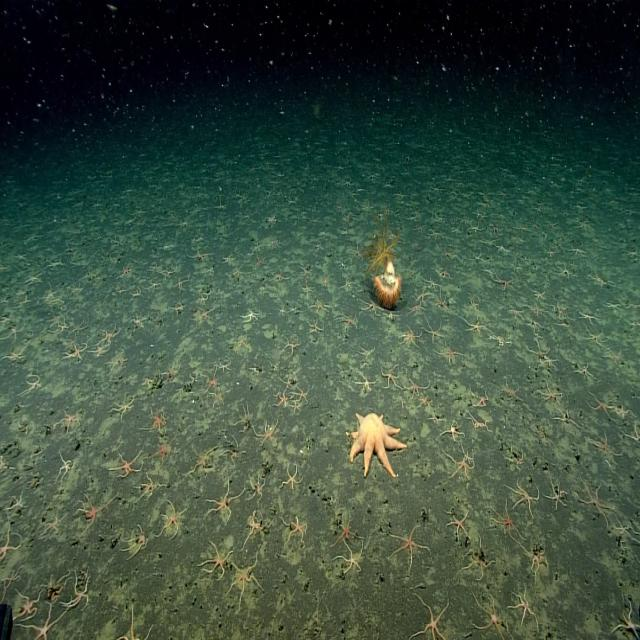brittle-stars: (411, 598, 449, 640), (390, 526, 427, 568), (474, 592, 507, 638), (578, 478, 612, 522), (26, 605, 63, 640), (207, 482, 240, 520), (230, 557, 260, 598), (105, 450, 144, 480), (512, 588, 540, 628), (41, 566, 69, 604), (493, 503, 519, 542), (511, 480, 539, 516), (202, 544, 230, 580), (465, 538, 491, 576), (615, 602, 640, 640), (161, 503, 186, 538), (77, 492, 102, 527), (116, 615, 151, 640), (338, 544, 366, 575), (15, 589, 42, 621), (69, 572, 90, 612), (0, 525, 22, 562), (444, 455, 473, 483), (154, 436, 180, 465), (528, 332, 552, 363), (127, 524, 148, 558), (194, 445, 217, 476), (448, 509, 470, 541), (335, 517, 359, 546), (282, 517, 306, 546), (547, 480, 568, 511), (592, 432, 616, 459), (137, 474, 161, 500), (245, 512, 265, 543), (257, 420, 279, 448), (527, 547, 547, 577), (42, 511, 64, 538), (589, 392, 611, 418), (358, 298, 384, 318), (112, 395, 134, 418), (540, 379, 562, 402), (572, 360, 596, 381), (282, 466, 302, 491), (612, 519, 634, 541), (354, 342, 376, 364), (2, 565, 23, 588), (381, 366, 401, 390), (439, 342, 460, 364), (60, 410, 81, 432), (406, 377, 428, 398), (226, 438, 242, 466), (58, 454, 75, 480), (248, 475, 265, 501), (490, 332, 513, 351), (147, 409, 165, 433), (444, 420, 464, 441), (65, 343, 87, 362), (402, 327, 421, 349), (463, 317, 484, 336), (102, 322, 121, 343), (471, 415, 492, 434), (4, 346, 26, 364), (356, 374, 375, 394), (470, 387, 488, 408), (238, 406, 253, 431), (7, 492, 24, 514), (164, 364, 181, 386), (508, 446, 524, 469), (424, 320, 442, 340), (340, 310, 358, 329), (6, 320, 24, 339), (110, 351, 126, 372), (282, 337, 299, 356), (502, 380, 518, 400), (26, 374, 42, 394), (212, 386, 228, 406), (495, 274, 513, 291), (587, 330, 605, 347), (557, 263, 574, 281), (578, 306, 595, 324), (234, 332, 250, 351), (415, 394, 432, 411), (92, 342, 110, 358), (242, 308, 260, 324), (42, 284, 58, 302), (437, 288, 449, 312), (0, 452, 11, 477), (272, 268, 289, 284), (308, 318, 324, 335), (72, 316, 87, 334), (607, 348, 622, 366), (275, 389, 289, 408), (198, 305, 213, 322), (604, 300, 621, 315), (26, 271, 43, 286), (28, 474, 42, 492), (510, 306, 526, 321), (295, 386, 309, 403), (312, 300, 329, 314), (206, 372, 219, 390), (426, 412, 444, 425), (217, 358, 232, 373), (424, 276, 439, 291), (541, 354, 556, 369), (132, 314, 146, 329), (469, 249, 484, 263), (409, 303, 425, 316), (468, 296, 480, 313), (530, 302, 547, 314), (618, 404, 630, 421), (146, 278, 160, 292), (233, 266, 247, 280), (119, 265, 133, 279), (302, 282, 316, 296), (175, 277, 188, 292), (282, 376, 295, 391), (222, 254, 235, 268), (570, 245, 584, 258), (417, 289, 430, 303), (463, 449, 475, 464), (533, 287, 545, 301), (72, 282, 84, 296), (290, 401, 301, 416), (439, 267, 451, 280), (468, 221, 481, 233), (435, 212, 448, 224), (385, 311, 398, 323), (198, 292, 209, 306), (278, 304, 287, 318), (148, 264, 158, 276)
